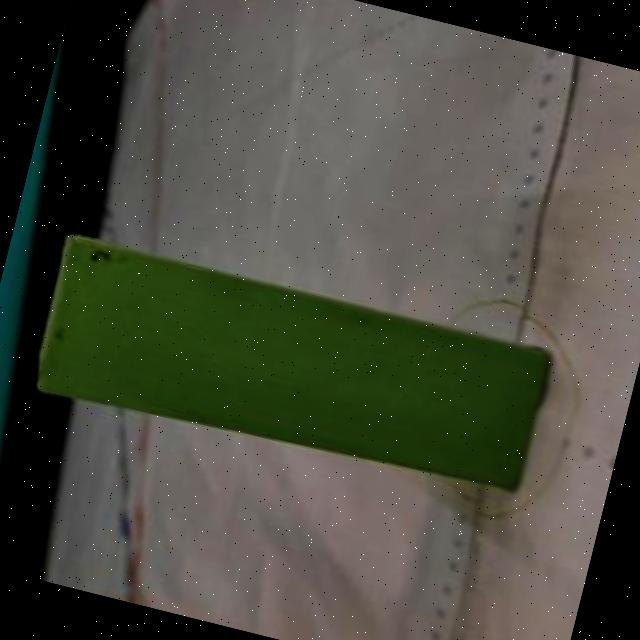greenbox: (32, 230, 550, 496)
